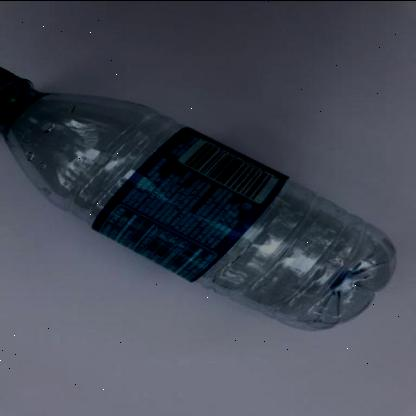Plastic Bottle: (0, 67, 395, 329)
